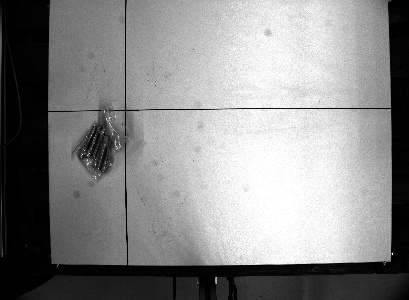t2: (68, 94, 132, 183)
